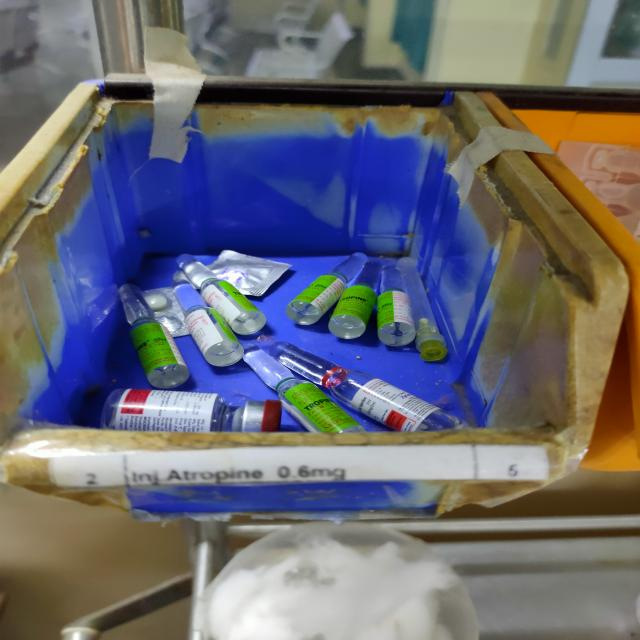B3: (104, 236, 413, 432), (235, 343, 465, 434), (286, 239, 416, 346), (180, 251, 268, 336), (118, 282, 189, 386), (105, 390, 269, 432), (174, 278, 245, 367), (410, 256, 449, 363)
